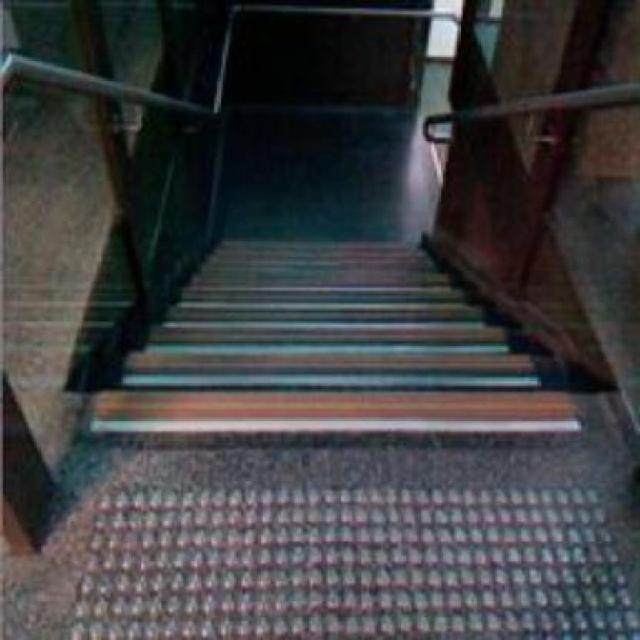stair: (79, 218, 579, 436)
